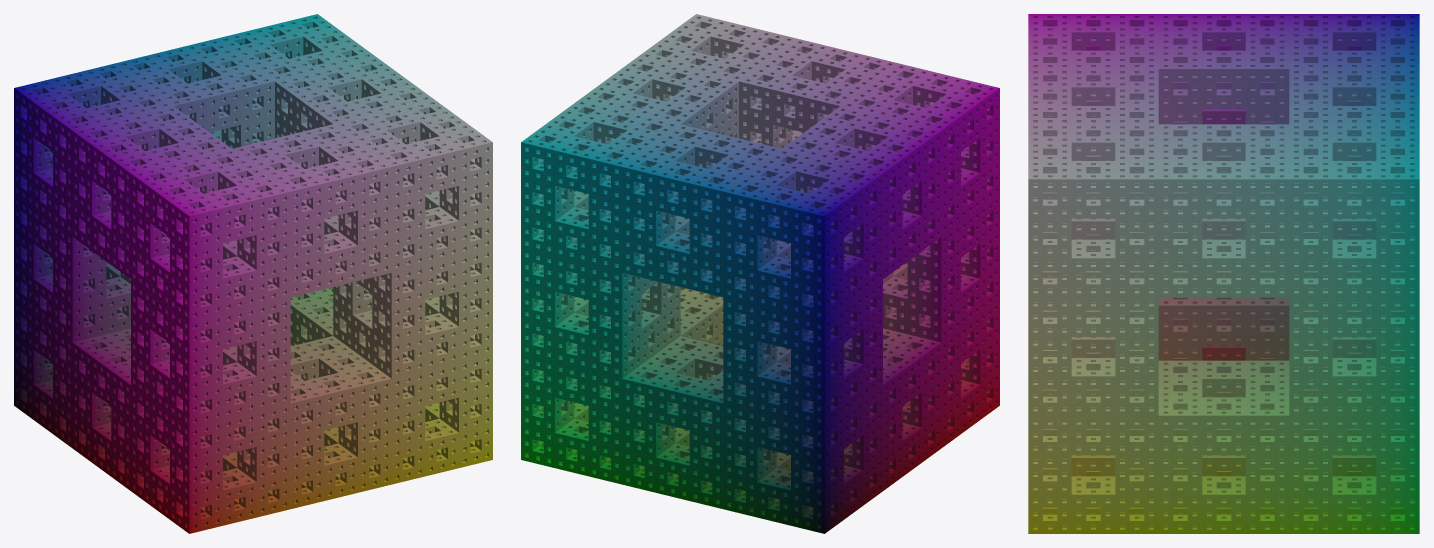
File: mengerSponge4.glb
3 renders of one model, left to right at view 1: azimuth 30°, elevation 25°; view 2: azimuth 150°, elevation 25°; view 3: azimuth 270°, elevation 25°, orthographic. The views are drawn at different scales.
Bounding box in the file's own units: 1 × 1 × 1.
